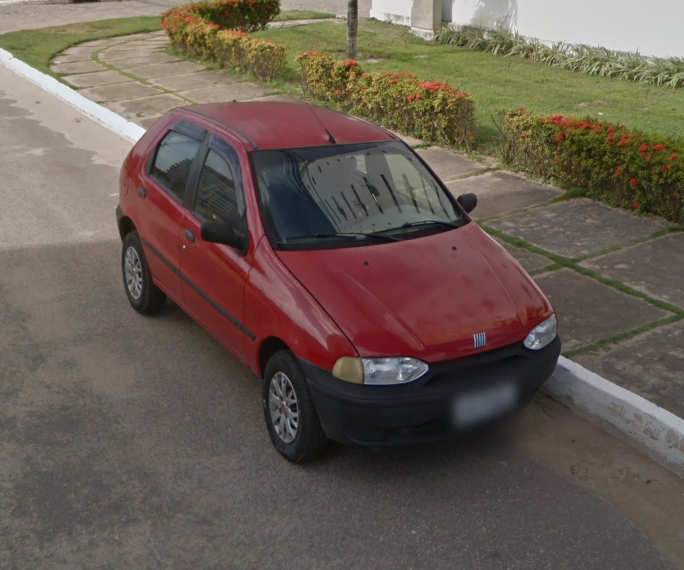car: (115, 89, 565, 467)
